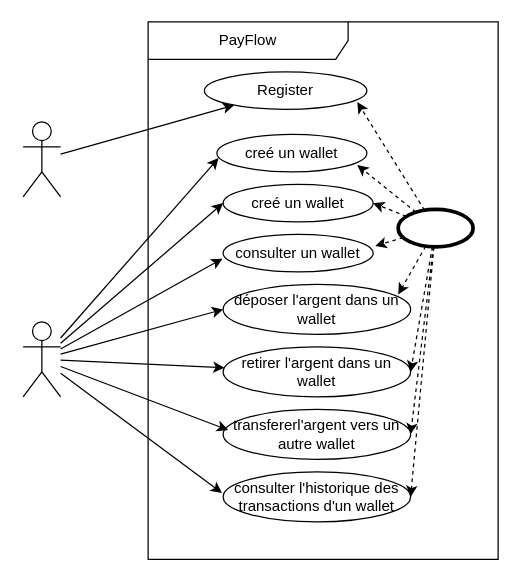
Some shapes in this 520 by 581 pixel diagram are drawn without their labels. Each missing label, with the box of its shape:
Guest: (22, 121, 61, 197)
login: (396, 207, 474, 248)
User: (22, 321, 61, 397)
